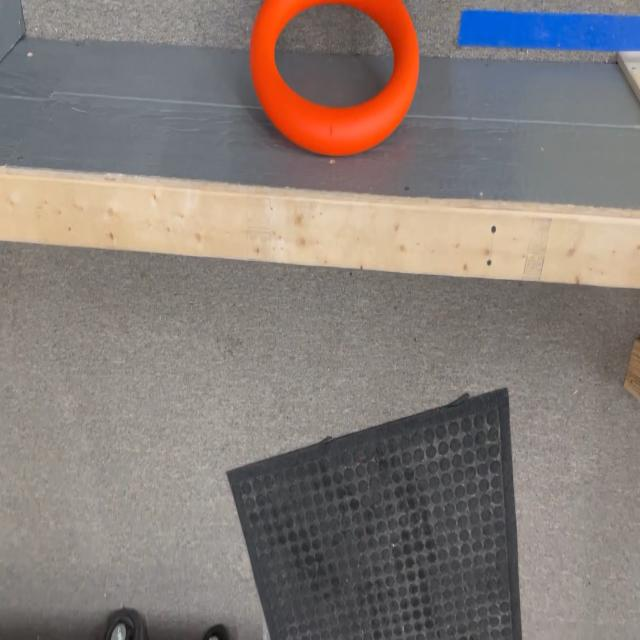note: (247, 0, 418, 155)
